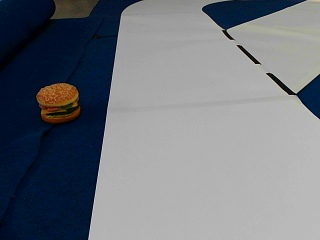burger: (35, 80, 80, 122)
